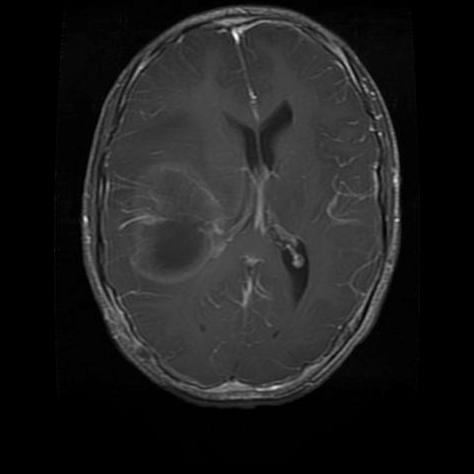Tumour-Glioma: (122, 163, 226, 289)
